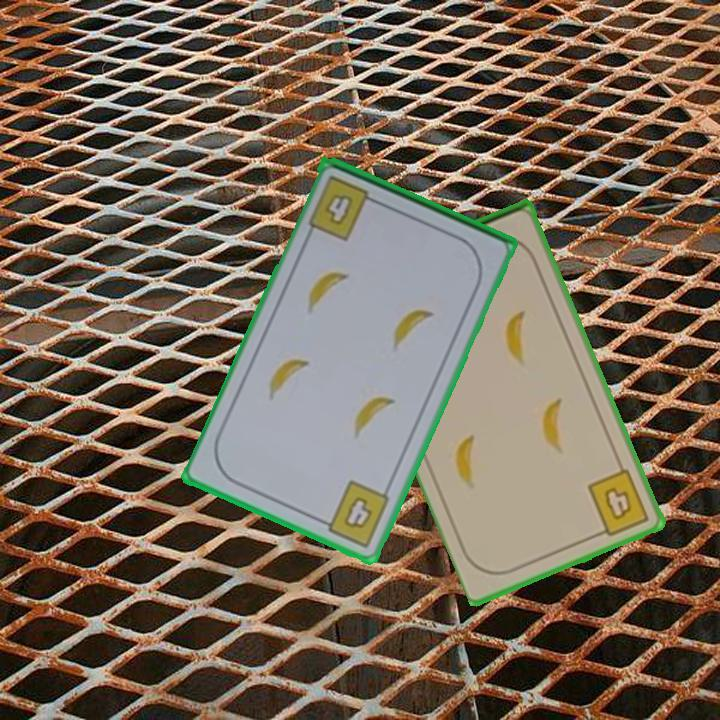4b: (314, 477, 393, 551), (304, 172, 382, 244), (584, 465, 653, 540)
